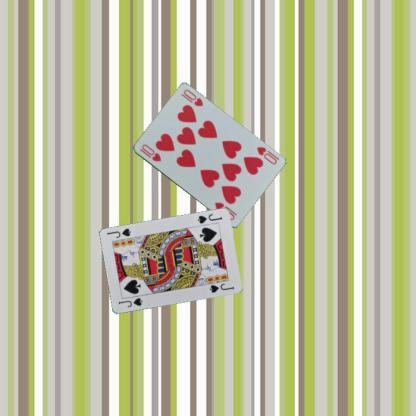10h: (137, 141, 162, 163), (254, 144, 278, 166)
Js: (195, 211, 223, 226), (116, 295, 143, 309)
